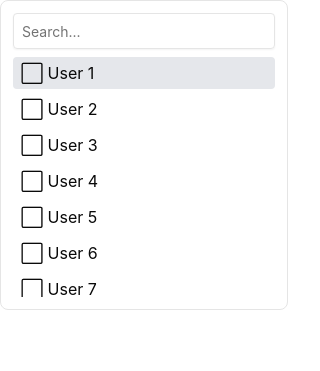
Test: MultiSelect › supports keyboard navigation
This screenshot has width=320, height=371.
Click the dropdown named "Search options" at [144, 31], box [13,13,275,49]
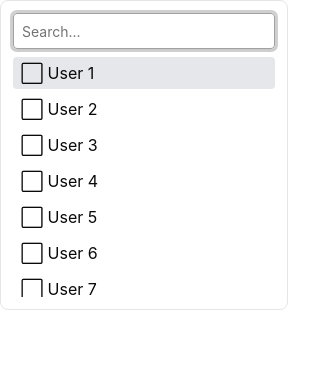
Press Enter
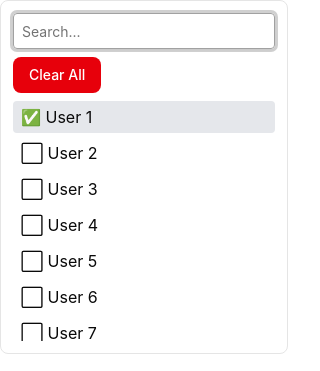
Now the text "✅ User 1" is shown, box [21,105,92,129]
